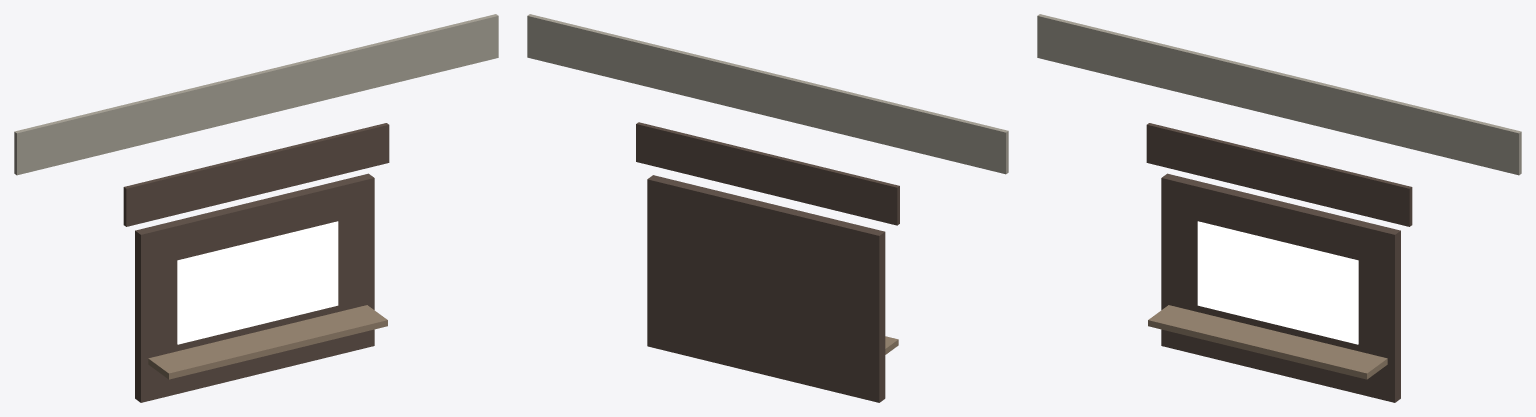
File: taquilla.glb
3 views of the same model, side by side, from view 1: azimuth 30°, elevation 25°; view 2: azimuth 150°, elevation 25°; view 3: azimuth 330°, elevation 25° (orthographic).
Visible parts, largest first — view 1: Taquilla; view 2: Taquilla; view 3: Taquilla.
Boxes of the visible parts, x1,y1,x2,y2 form: Taquilla: (14,14,498,402); Taquilla: (527,14,1008,402); Taquilla: (1037,14,1521,402).
Bounding box in the file's own units: 6.6 × 3.93 × 0.63.
